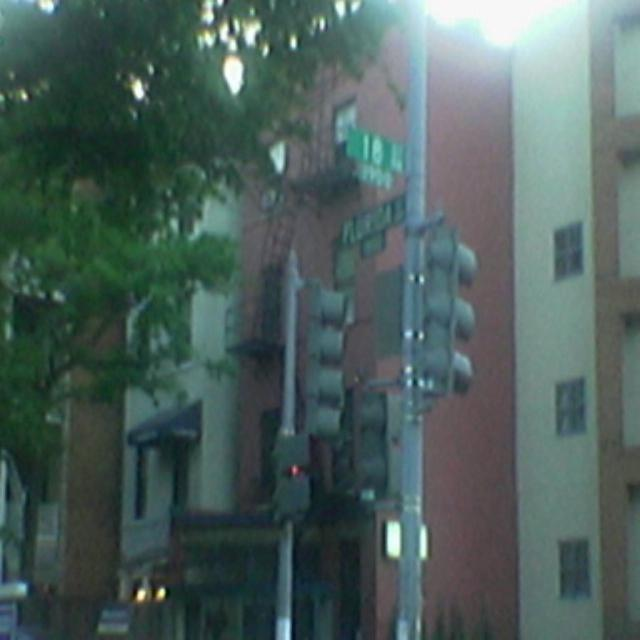off traffic light: (430, 234, 479, 401), (306, 282, 347, 441)
